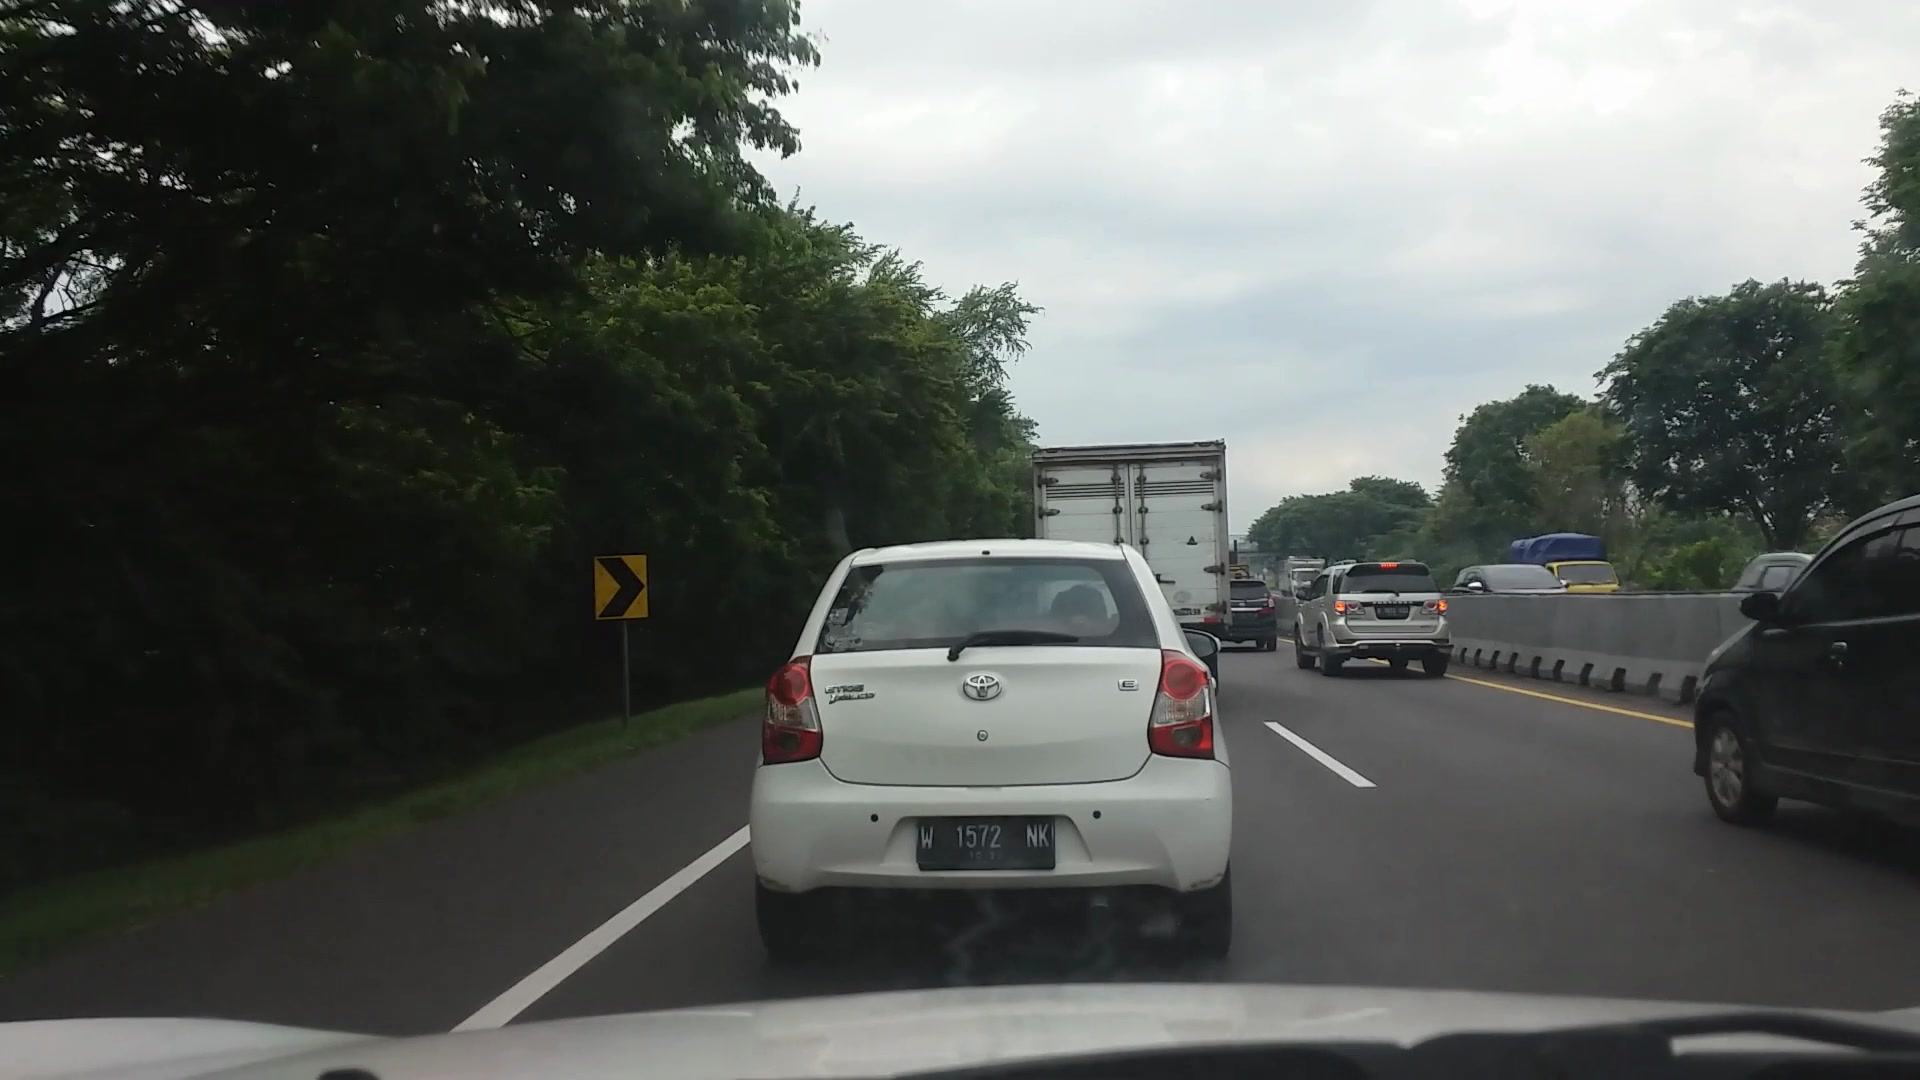plate_positive: (916, 815, 1055, 872)
